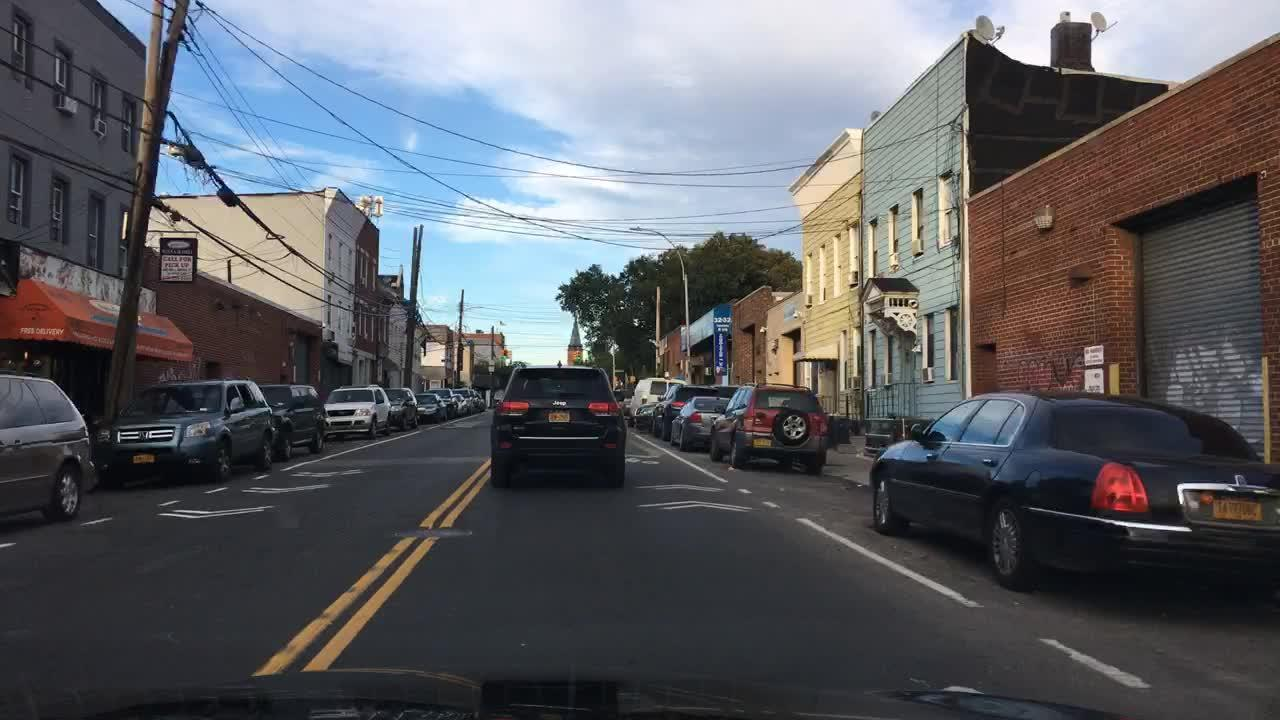Honda: (134, 427, 152, 446)
jeep: (544, 395, 582, 411)
lincoln: (1230, 469, 1250, 491)
